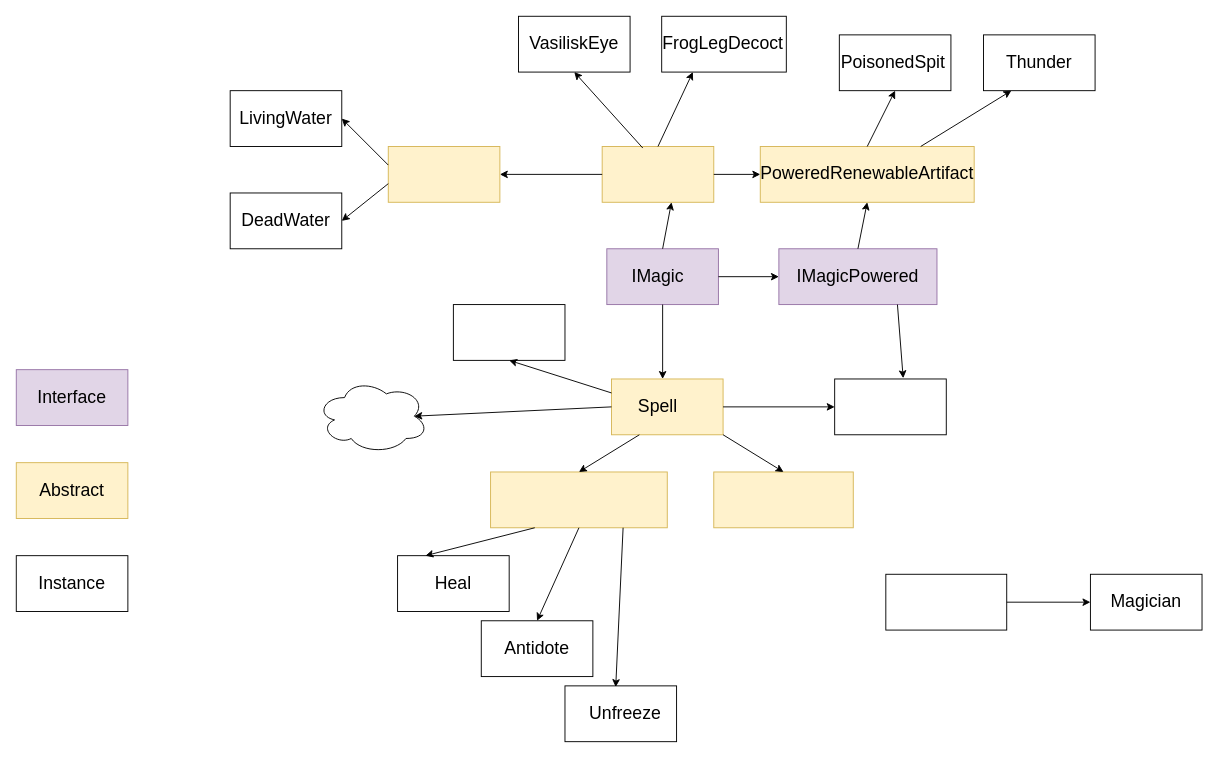
Some shapes in this 1218 by 758 pixel diagram are drawn without their labels. The shapes that lost their labels are listed below. From the top down, each one's centre as x and y in pixels, then its label:
At (x=443, y=174): "Water".
At (x=657, y=174): "Artifact".
At (x=508, y=332): "Revive".
At (x=372, y=415): "Armor".
At (x=890, y=406): "AddHealth".
At (x=578, y=499): "RemoveStateSpell".
At (x=783, y=499): "AddStateSpell".
At (x=946, y=601): "Character".
